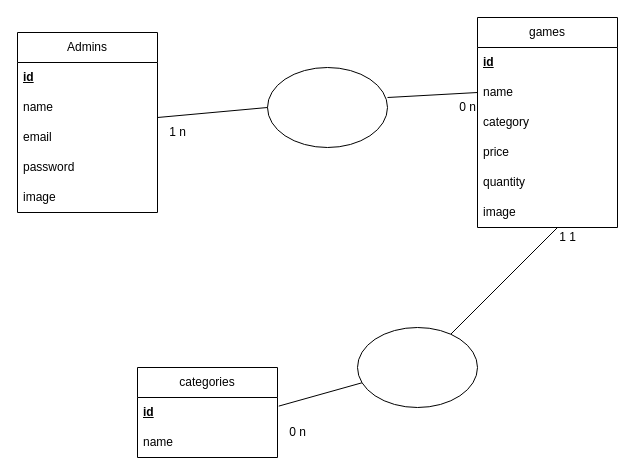
Image size: 635x475. Some labels were removed from this diagram. The shapes that lost their labels are listed below. From the top down, each one's centre as x and y in pixels, then its label:
[327,107]: manage
[417,367]: avoir
